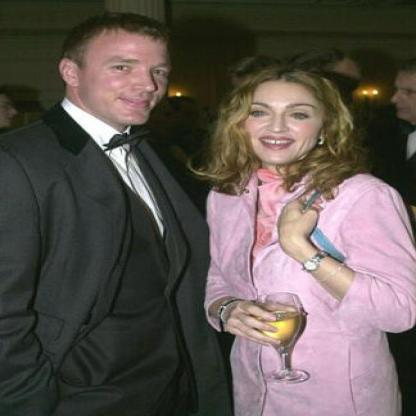face: (78, 21, 181, 128), (239, 69, 327, 166)
